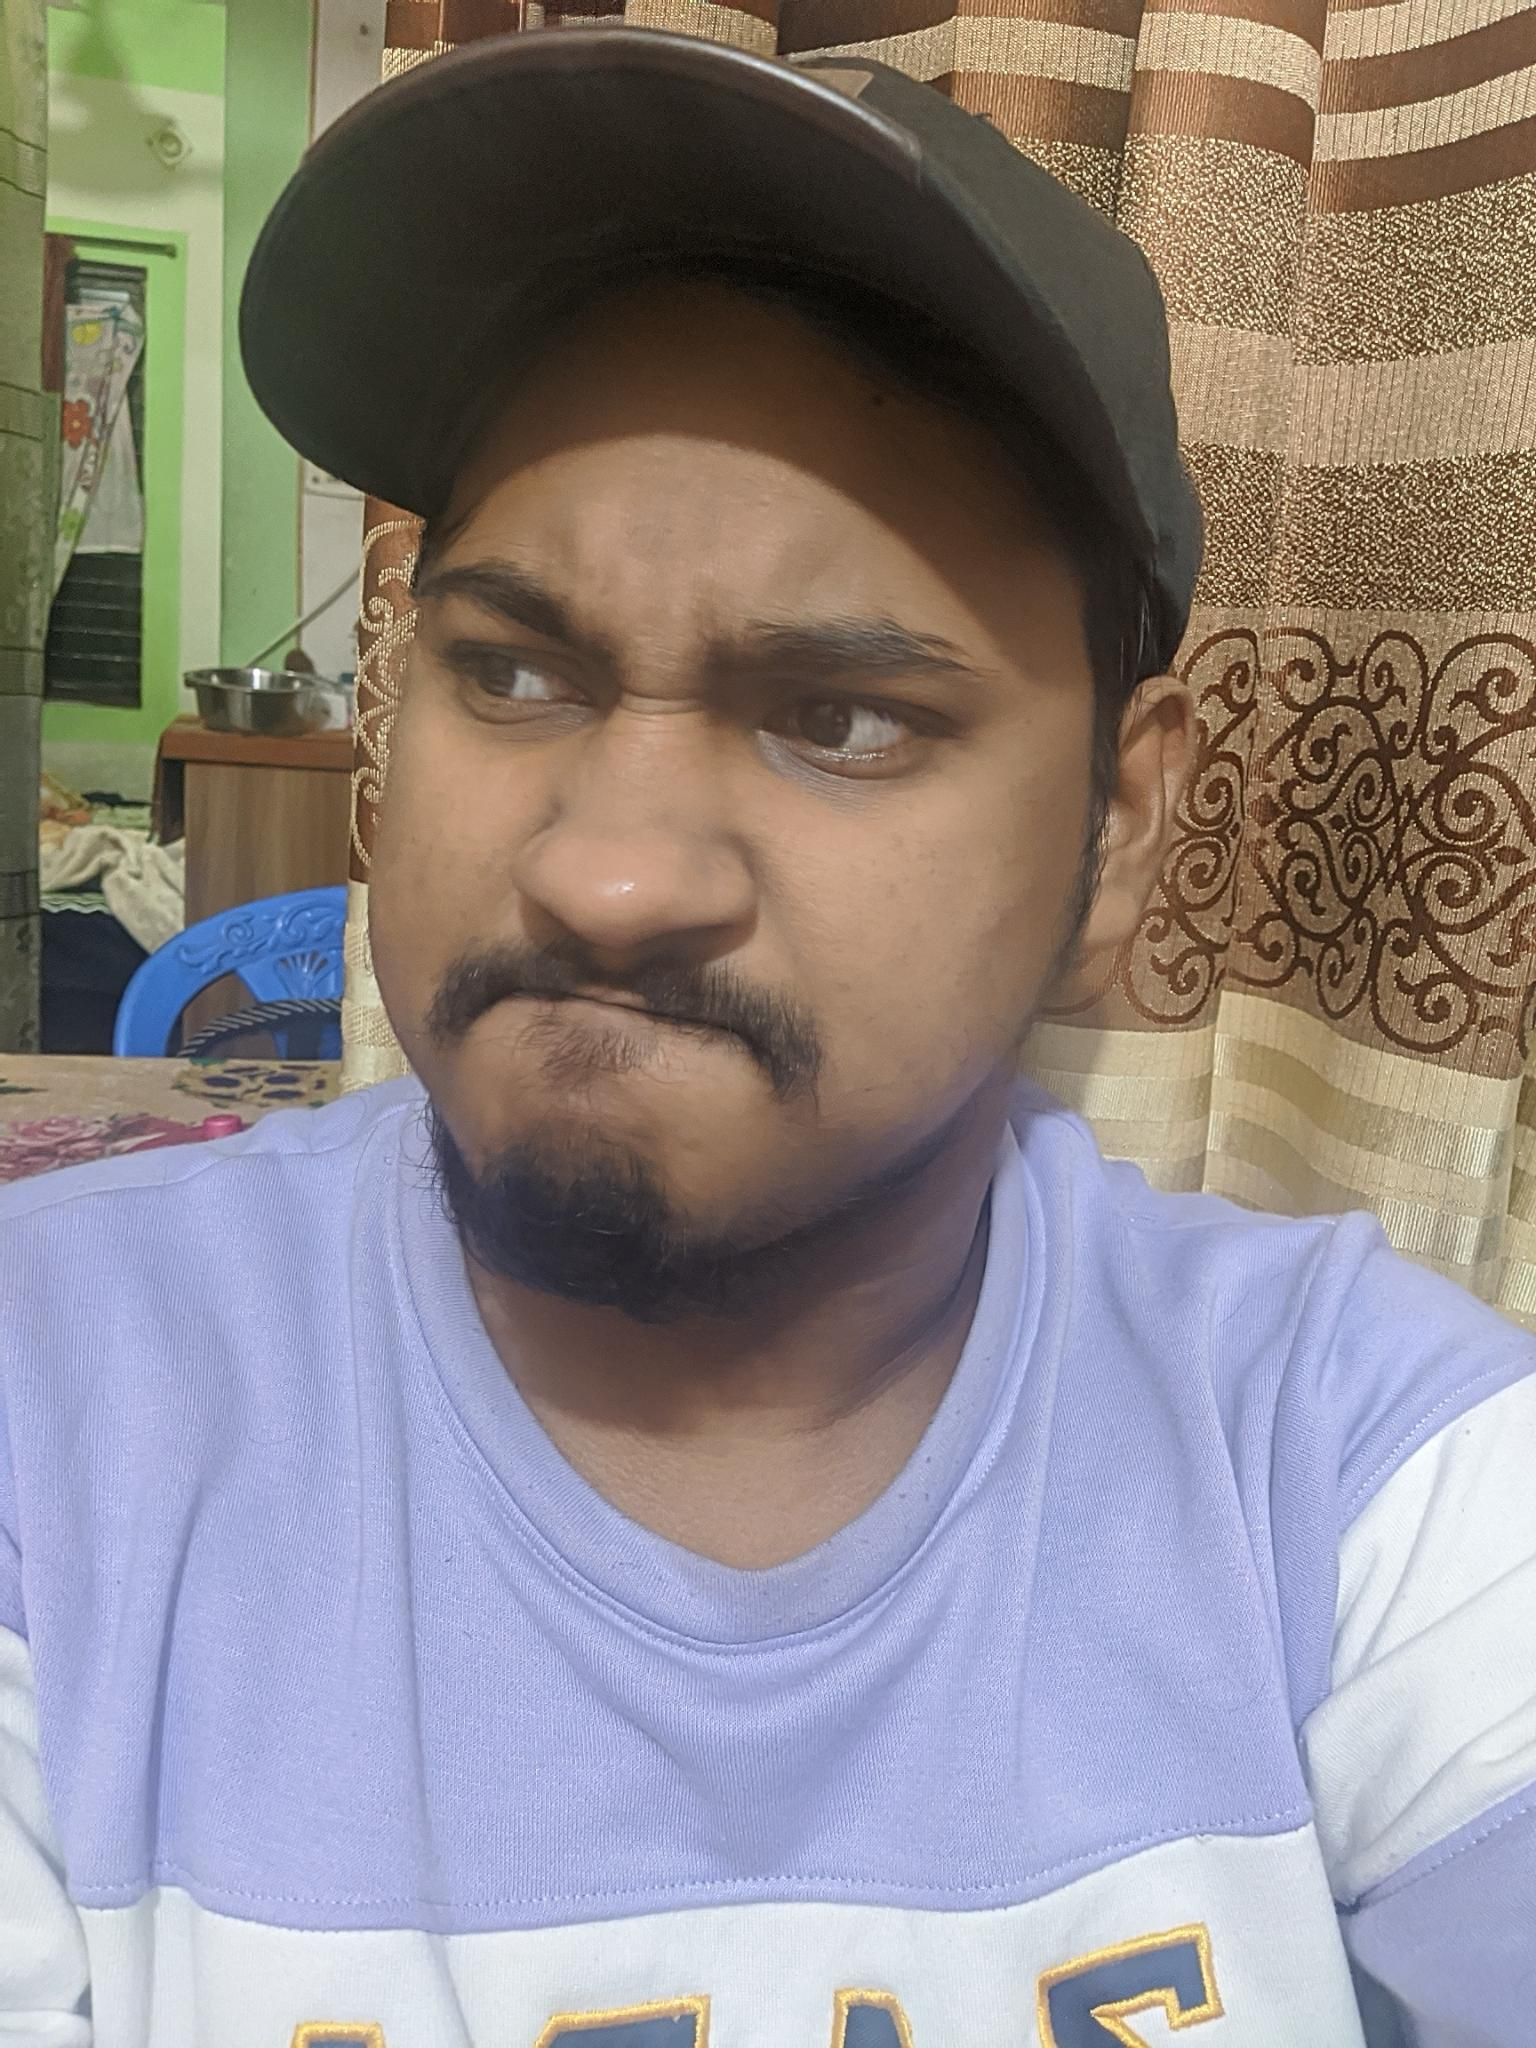Angry: (369, 455, 1044, 1201)
